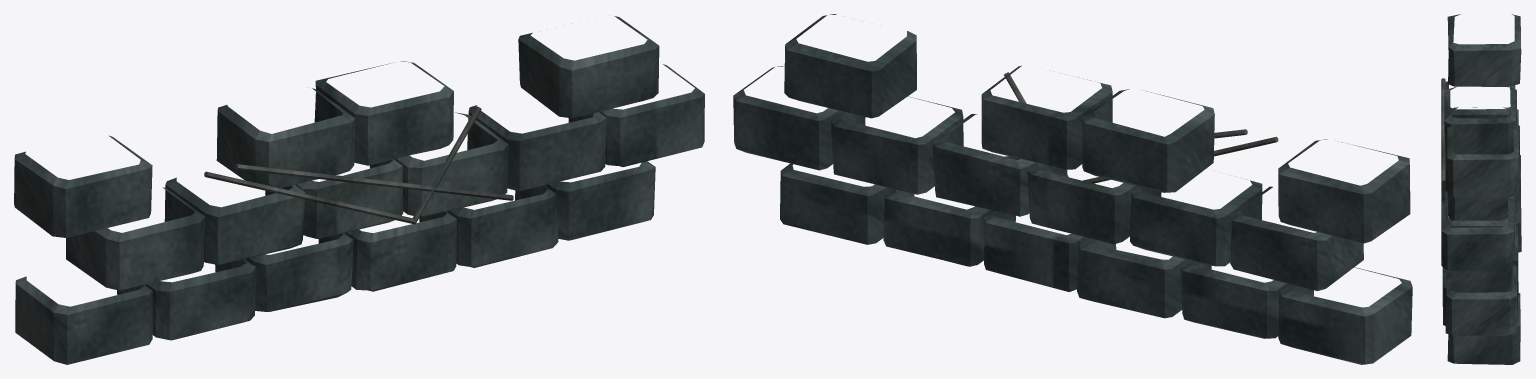
Rendered from 0347_wall_section_22.glb.
The picture shows the model from 3 angles, left to right: view 1: azimuth 30°, elevation 25°; view 2: azimuth 150°, elevation 25°; view 3: azimuth 270°, elevation 25°; orthographic projection. The views are drawn at different scales.
Visible parts, largest first — view 1: stone_dark, iron; view 2: stone_dark, iron; view 3: stone_dark, iron.
Part boxes in pixels (<box>): stone_dark: <box>14,16,704,364</box>; iron: <box>204,106,513,224</box>; stone_dark: <box>733,14,1412,364</box>; iron: <box>1004,72,1278,183</box>; stone_dark: <box>1441,14,1521,364</box>; iron: <box>1441,78,1445,266</box>.
Size of the model in its own units: 4.15 by 1.12 by 0.5918.
2 materials, 2 textured.
